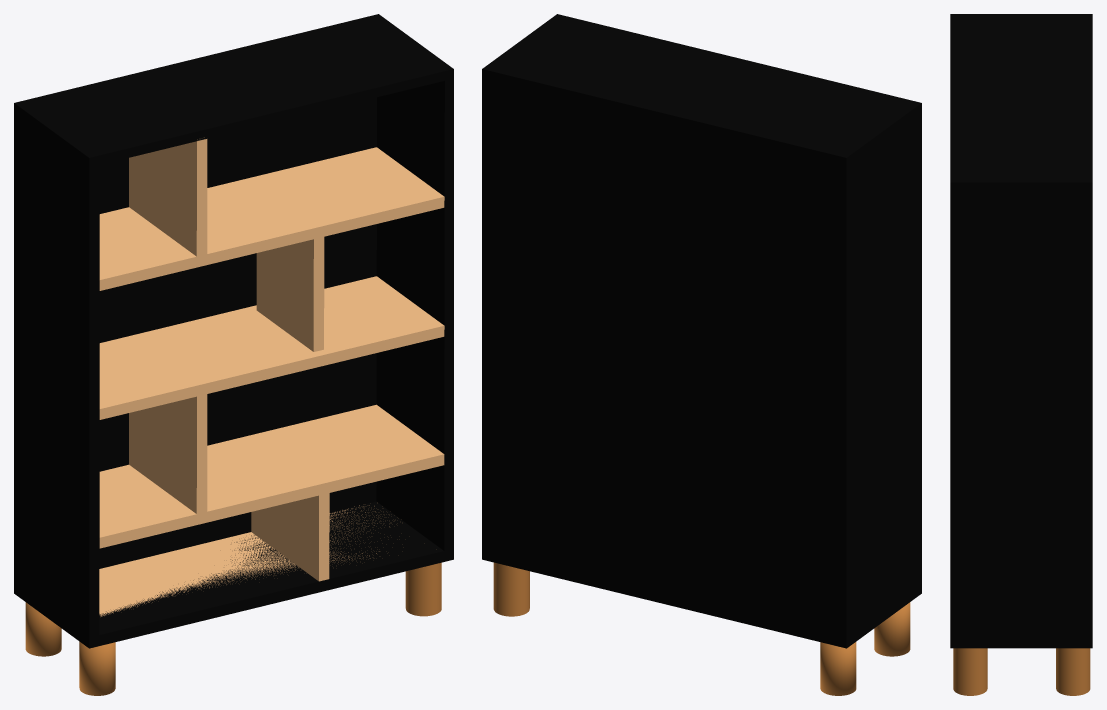
3 renders of one model, left to right at view 1: azimuth 30°, elevation 25°; view 2: azimuth 150°, elevation 25°; view 3: azimuth 270°, elevation 25°, orthographic. The views are drawn at different scales.
Parts seen in each view (by area): view 1: Cube, Cube.013, Cube.002, Cube.001, Cube.003, Cube.011, Cube.008, Cube.007, Cube.006, Cube.009, Cylinder.003, Cylinder (+1 smaller); view 2: Cube, Cylinder.002, Cylinder.001, Cylinder.003; view 3: Cube, Cylinder.001, Cylinder.
Part boxes in pixels (left/top/right/bottom): Cube: left=14, top=14, right=453, bottom=648; Cube.013: left=99, top=97, right=376, bottom=567; Cube.002: left=99, top=276, right=444, bottom=419; Cube.001: left=99, top=147, right=444, bottom=290; Cube.003: left=99, top=404, right=444, bottom=548; Cube.011: left=99, top=505, right=389, bottom=616; Cube.008: left=129, top=394, right=207, bottom=513; Cube.007: left=129, top=137, right=207, bottom=256; Cube.006: left=256, top=237, right=324, bottom=351; Cube.009: left=251, top=492, right=329, bottom=581; Cylinder.003: left=79, top=641, right=115, bottom=695; Cylinder: left=405, top=562, right=441, bottom=616; Cube: left=482, top=14, right=921, bottom=648; Cylinder.002: left=820, top=642, right=856, bottom=695; Cylinder.001: left=493, top=562, right=529, bottom=616; Cylinder.003: left=874, top=602, right=910, bottom=656; Cube: left=950, top=14, right=1092, bottom=648; Cylinder.001: left=1056, top=648, right=1090, bottom=695; Cylinder: left=953, top=648, right=987, bottom=695.
Size of what is drawn, in the model's own units: 0.7 by 0.9957 by 0.25.
